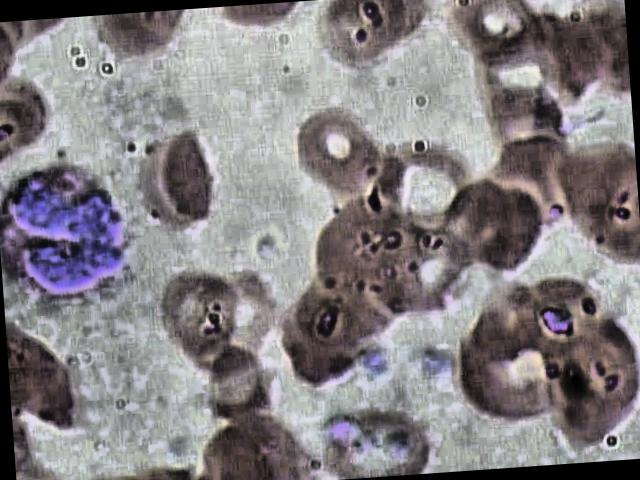Platelets: (412, 339, 458, 388), (354, 338, 399, 387), (313, 409, 358, 458)
RBC: (530, 309, 640, 458), (451, 304, 572, 436), (114, 116, 230, 244), (296, 197, 419, 308), (287, 246, 404, 359), (308, 391, 444, 480), (453, 172, 557, 280), (474, 80, 578, 188), (458, 24, 562, 132), (282, 99, 381, 212), (368, 130, 472, 237), (492, 122, 596, 229), (5, 306, 80, 438), (151, 268, 238, 378), (200, 260, 286, 371), (441, 0, 545, 84), (307, 0, 417, 78), (342, 0, 452, 75), (556, 3, 632, 107), (0, 72, 70, 180), (202, 340, 277, 431)
WBC: (0, 159, 147, 311)
